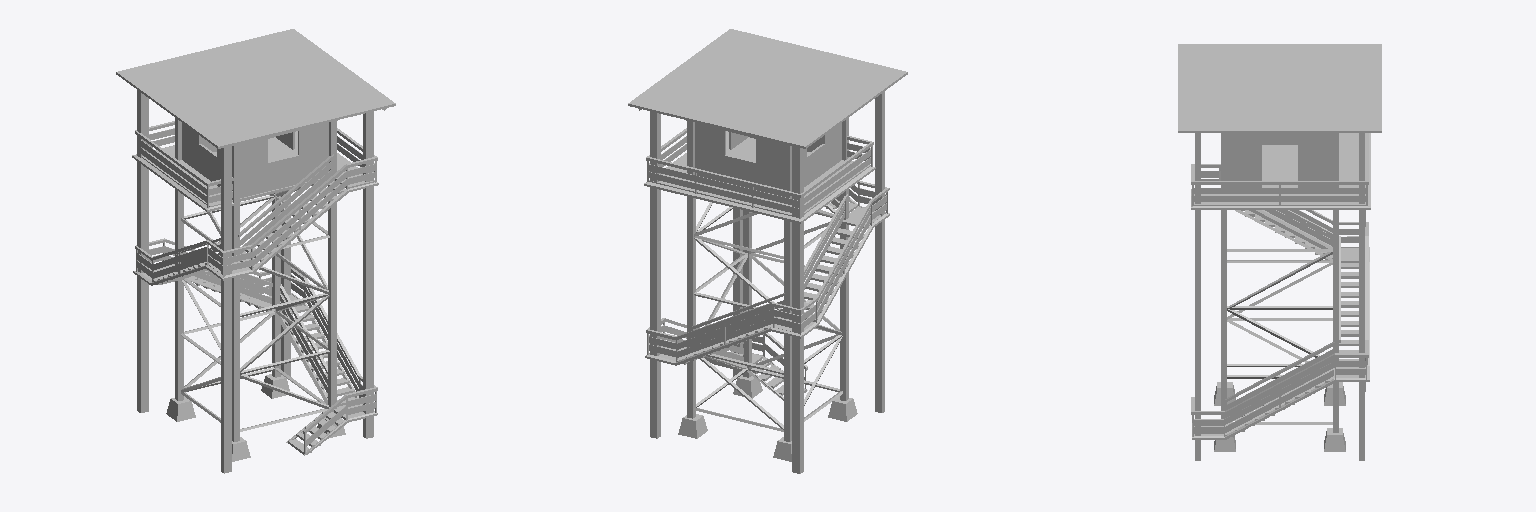
The model's file is watchtower.obj.
The picture shows the model from 3 angles: view 1: azimuth 30°, elevation 25°; view 2: azimuth 150°, elevation 25°; view 3: azimuth 270°, elevation 25°; orthographic projection.
Parts seen in each view (by area): view 1: watchtowerHigh; view 2: watchtowerHigh; view 3: watchtowerHigh.
Part boxes in pixels (x1,y1,x2,y2): watchtowerHigh: (116, 29, 395, 473); watchtowerHigh: (628, 29, 907, 473); watchtowerHigh: (1178, 44, 1381, 460).
Bounding box in the file's own units: 4.22 × 7.65 × 4.22.